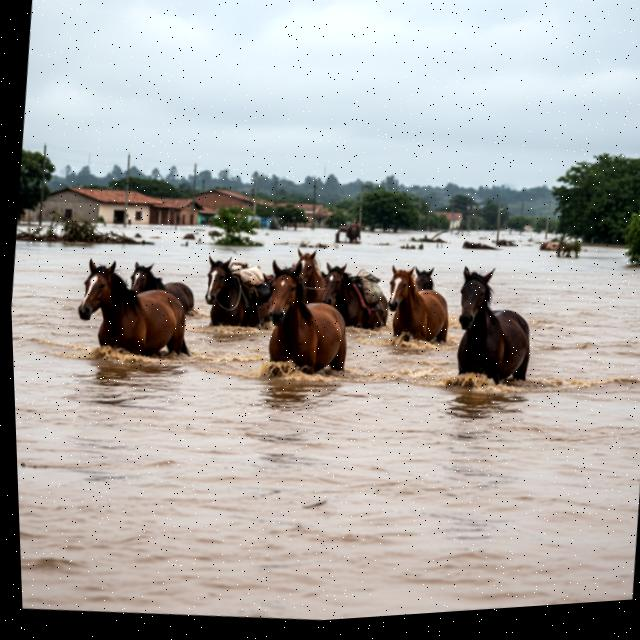horse: (66, 246, 210, 378), (252, 249, 364, 392), (445, 259, 551, 400), (195, 248, 286, 346), (377, 259, 458, 362), (120, 249, 209, 341), (316, 251, 396, 348), (284, 239, 343, 315), (406, 258, 443, 299)
